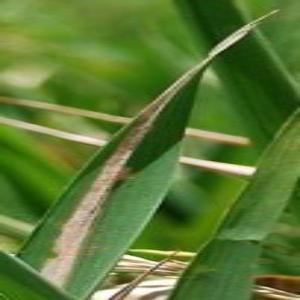Bacterial_Blight: (38, 142, 130, 289)
